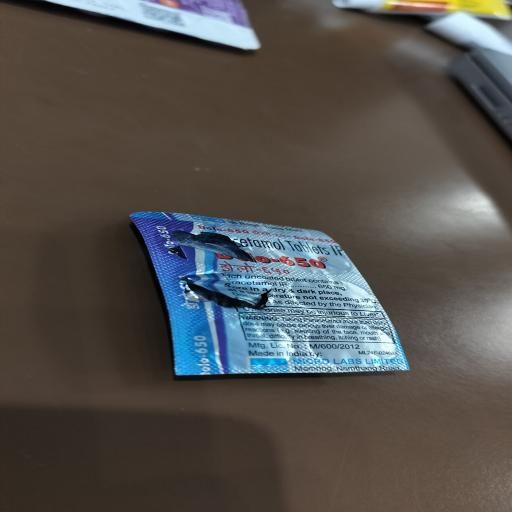dolo-650: (185, 243, 344, 275)
medicine: (117, 206, 420, 380)
